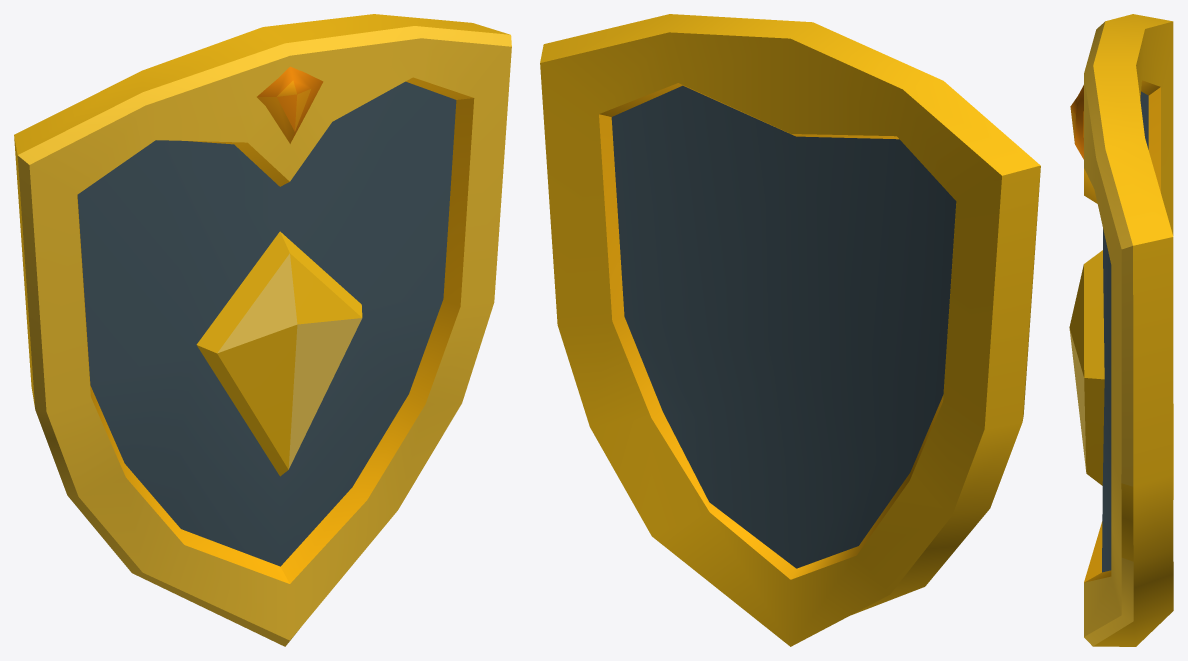
The model's file is wp cap6b.fbx.
The picture shows the model from 3 angles, left to right: view 1: azimuth 30°, elevation 25°; view 2: azimuth 150°, elevation 25°; view 3: azimuth 270°, elevation 25°; orthographic projection. The views are drawn at different scales.
Visible parts, largest first — view 1: wp_cap6b; view 2: wp_cap6b; view 3: wp_cap6b.
Boxes of the visible parts, bbox=[...] form: wp_cap6b: bbox=[14, 14, 511, 646]; wp_cap6b: bbox=[540, 14, 1040, 646]; wp_cap6b: bbox=[1069, 14, 1173, 646].
Size of the model in its own units: 101 by 118 by 19.16.
1 material, 1 textured.
